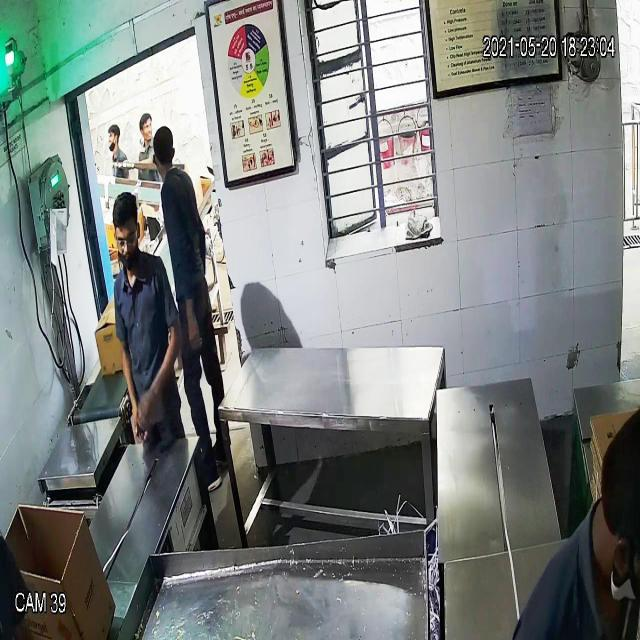glasses: (115, 228, 139, 250)
